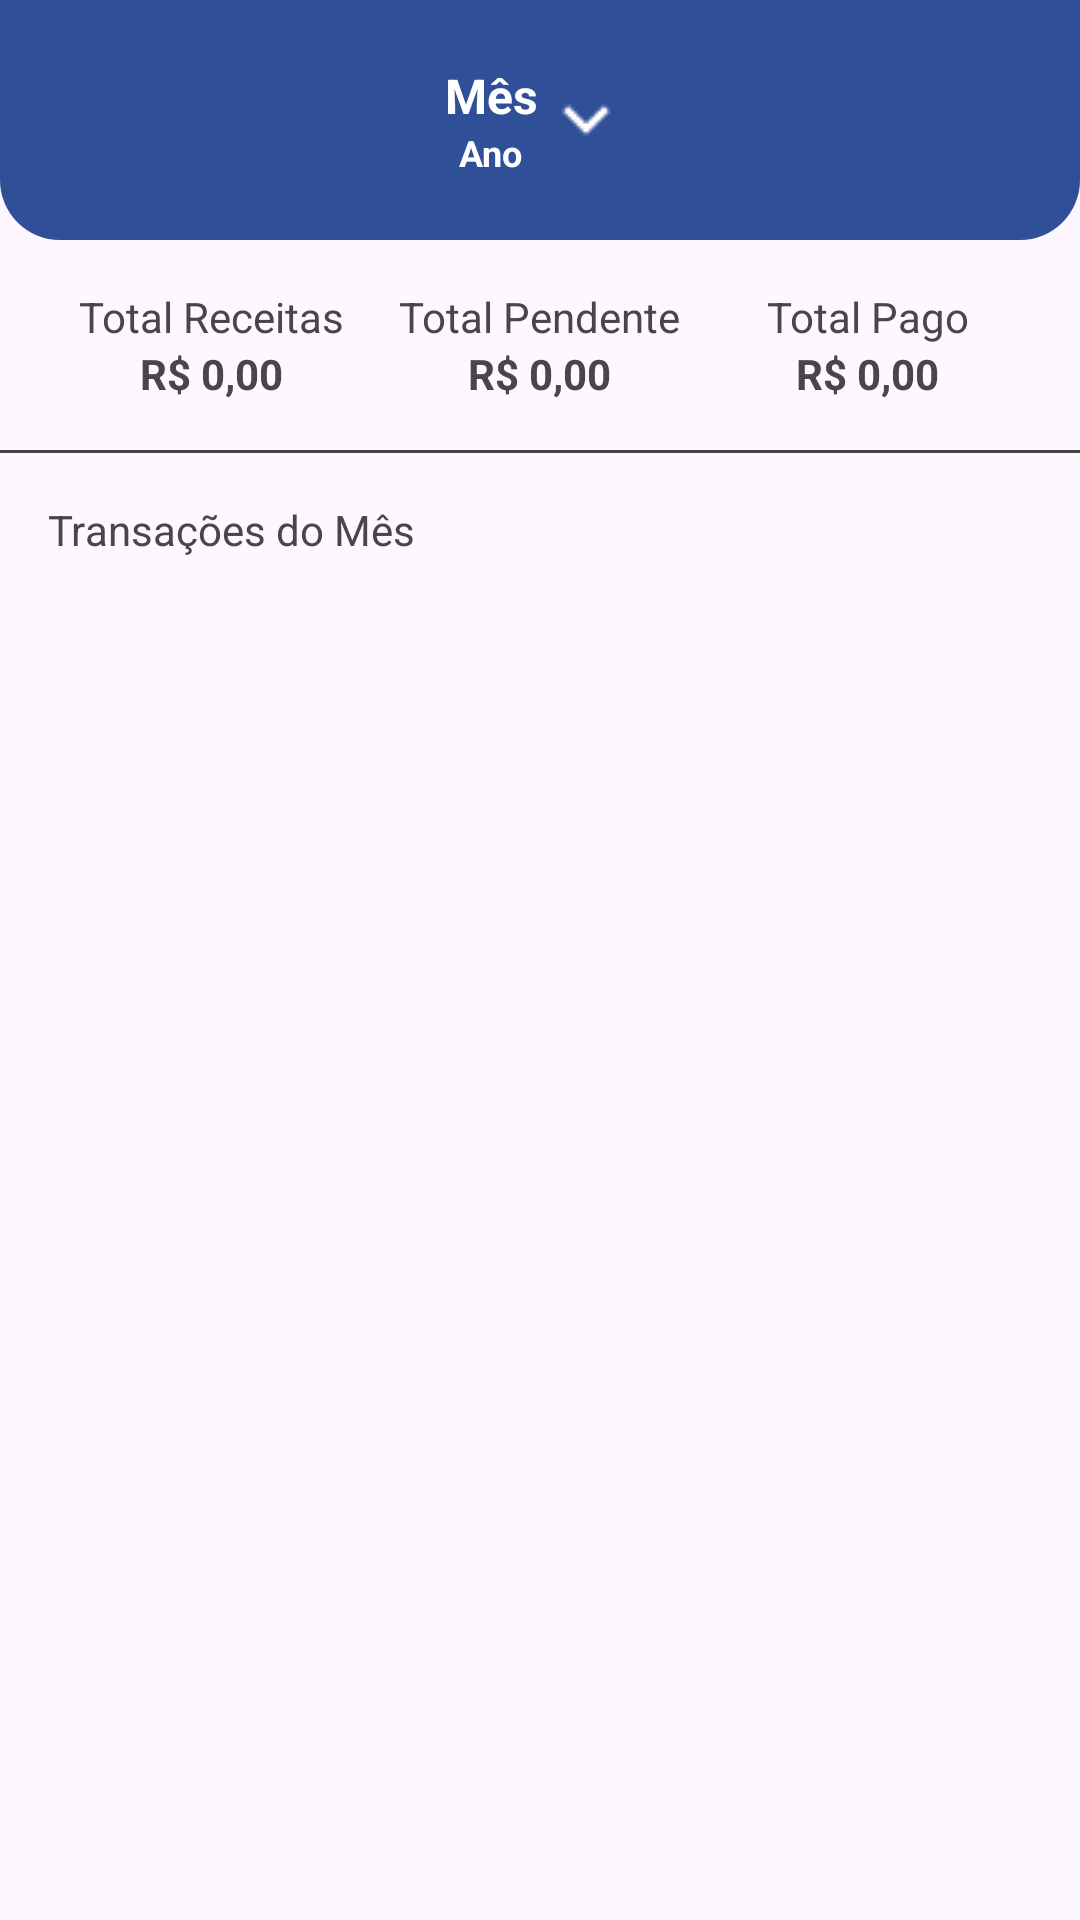

Where to tap for icons on this 1080w x 1920h app screen, as (x=x, y=y):
keyboard arrow down: (x=586, y=120)
